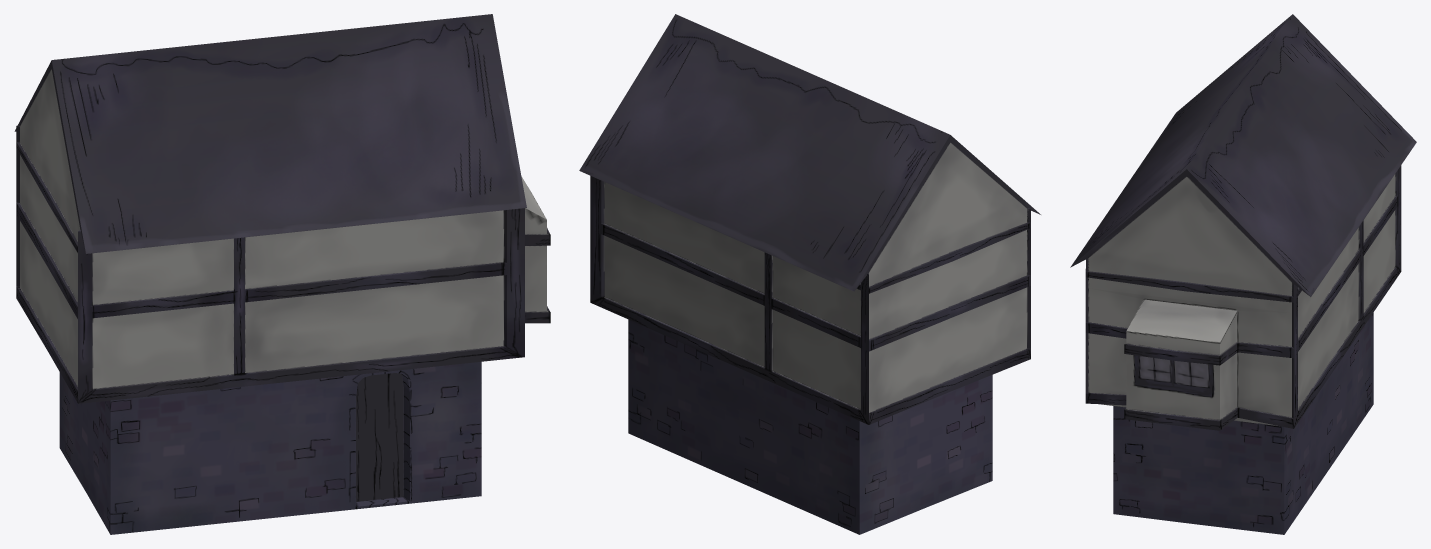
The model's file is House1_1.fbx.
3 renders of one model, left to right at view 1: azimuth 30°, elevation 25°; view 2: azimuth 150°, elevation 25°; view 3: azimuth 270°, elevation 25°, orthographic. The views are drawn at different scales.
Parts seen in each view (by area): view 1: house01_proper; view 2: house01_proper; view 3: house01_proper.
Part boxes in pixels (left/top/right/bottom): house01_proper: left=14, top=14, right=550, bottom=534; house01_proper: left=579, top=14, right=1040, bottom=534; house01_proper: left=1070, top=14, right=1416, bottom=534.
Size of the model in its own units: 603 by 544 by 466.
